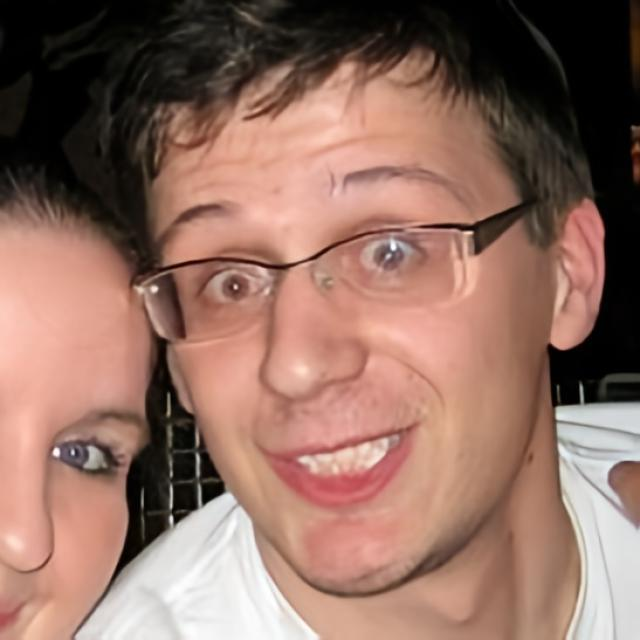happy: (2, 208, 151, 640)
surprise: (148, 47, 548, 598)
